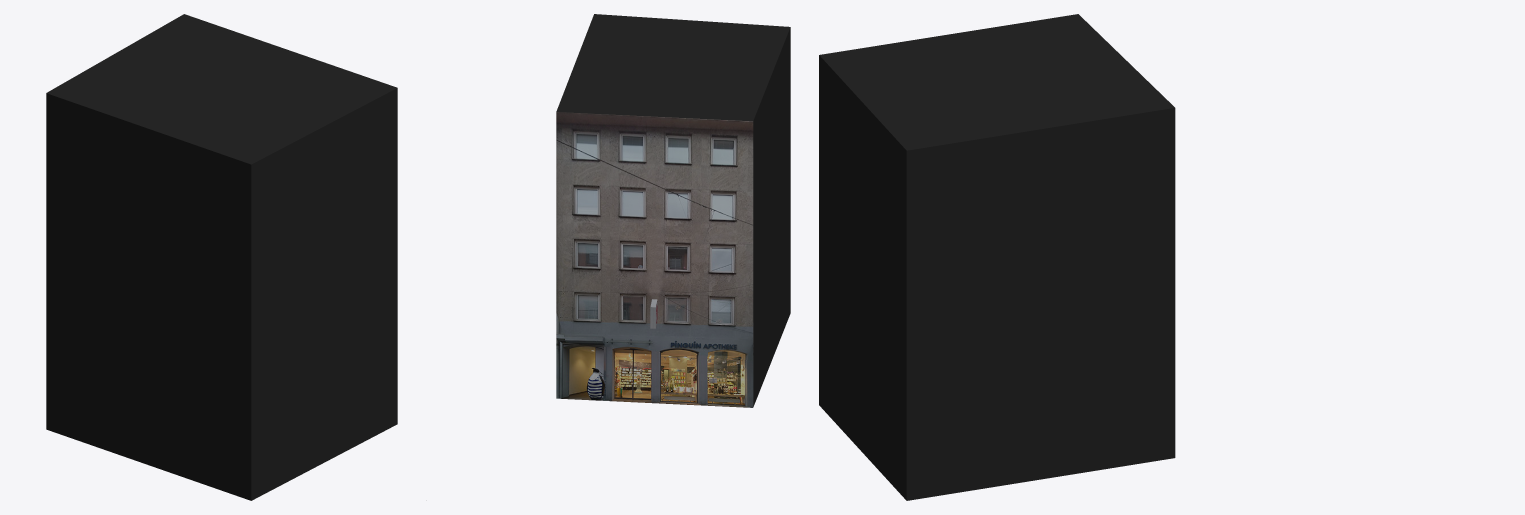
Rendered from B_Werth_38.FBX.
3 renders of one model, left to right at view 1: azimuth 30°, elevation 25°; view 2: azimuth 150°, elevation 25°; view 3: azimuth 270°, elevation 25°, orthographic. The views are drawn at different scales.
Visible parts, largest first — view 1: B_Werth_38; view 2: B_Werth_38_front, B_Werth_38; view 3: B_Werth_38.
Part boxes in pixels (x1,y1,x2,y2): B_Werth_38: (46,14,397,500); B_Werth_38_front: (556,112,753,407); B_Werth_38: (556,14,790,406); B_Werth_38: (819,14,1175,500).
Bounding box in the file's own units: 1339 × 1600 × 2864.
3 materials, 2 textured.
